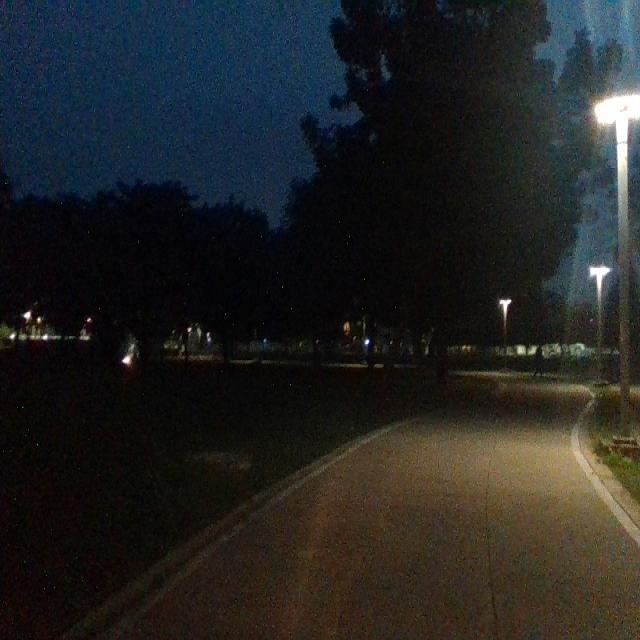lane: (130, 411, 635, 633)
